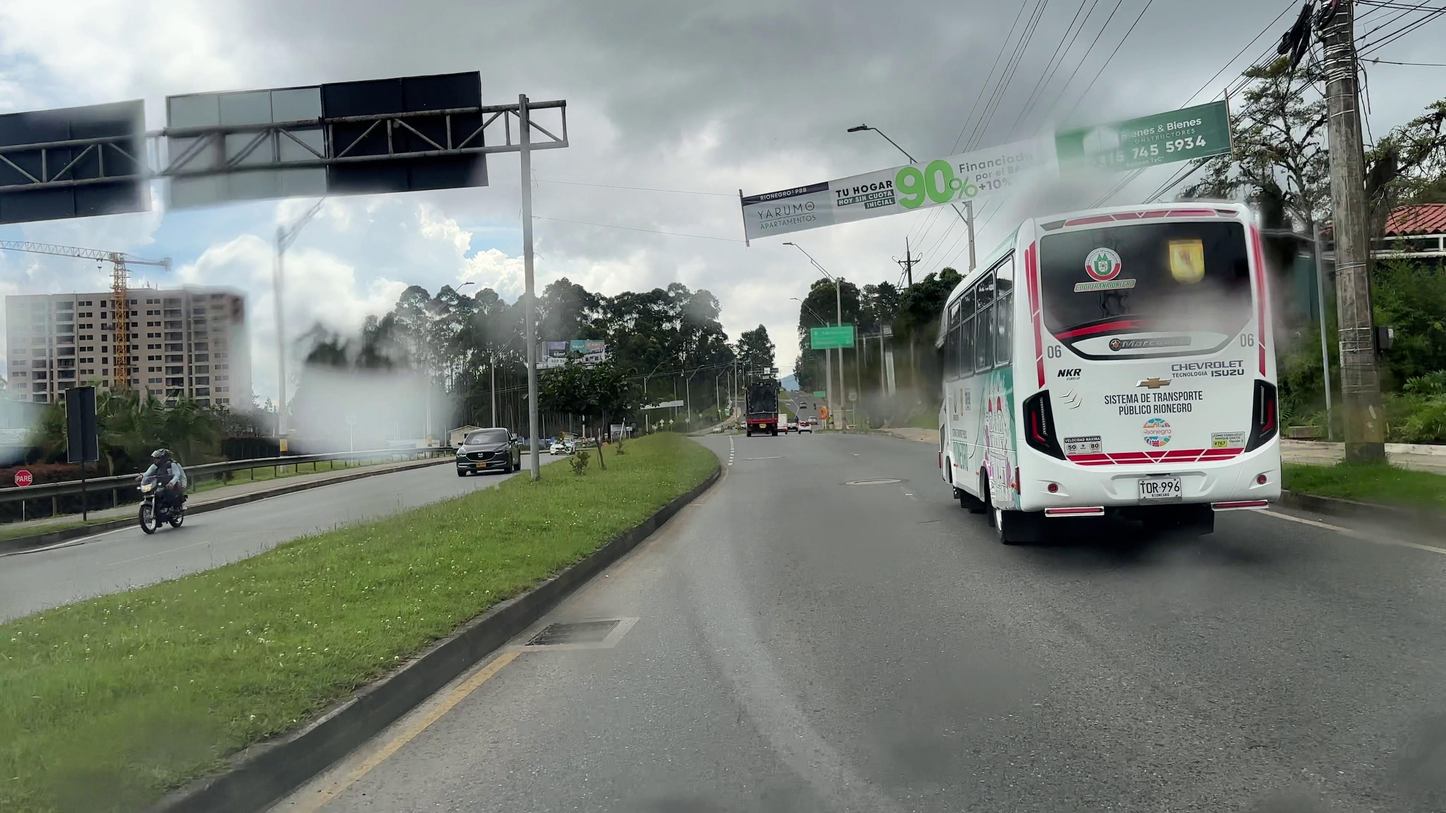registro: (846, 478, 901, 485)
rejilla: (526, 620, 620, 645)
